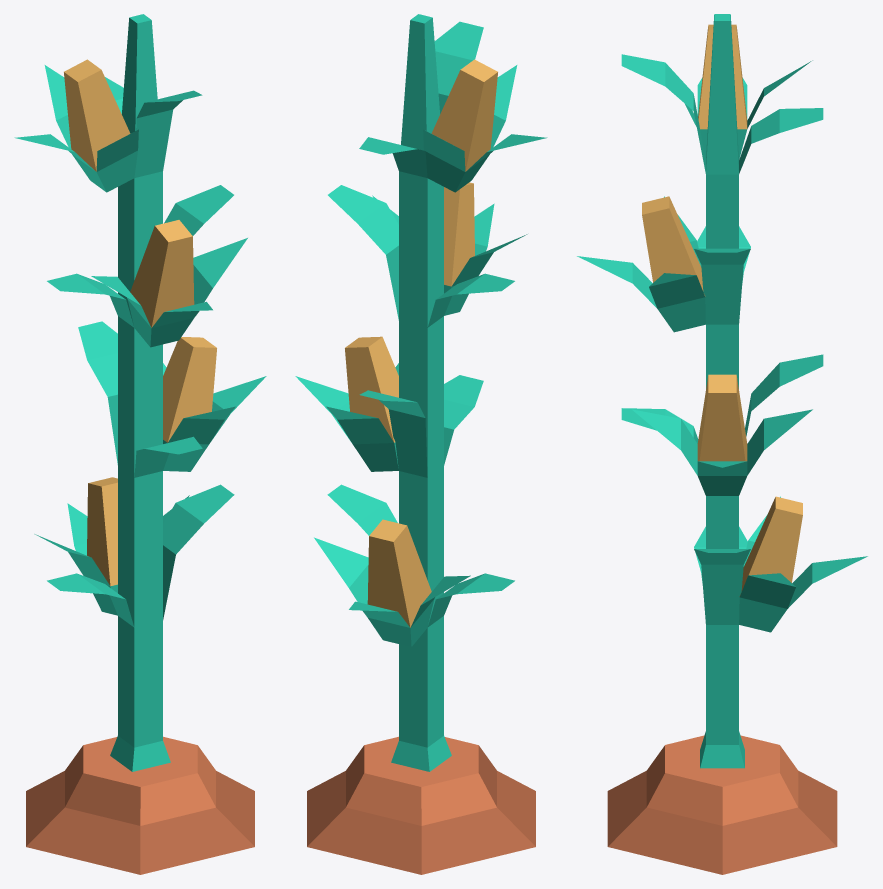
The model's file is crop.obj.
3 renders of one model, left to right at view 1: azimuth 30°, elevation 25°; view 2: azimuth 150°, elevation 25°; view 3: azimuth 270°, elevation 25°, orthographic.
Parts seen in each view (by area): view 1: crops_cornStageD, crops_dirtSingle; view 2: crops_cornStageD, crops_dirtSingle; view 3: crops_cornStageD, crops_dirtSingle.
Boxes of the visible parts, x1,y1,x2,y2 form: crops_cornStageD: [14, 14, 266, 771]; crops_dirtSingle: [26, 736, 254, 874]; crops_cornStageD: [295, 14, 547, 771]; crops_dirtSingle: [307, 736, 535, 874]; crops_cornStageD: [577, 14, 867, 768]; crops_dirtSingle: [607, 735, 837, 874].
Bounding box in the file's own units: 0.4416 × 1.34 × 0.4416.
